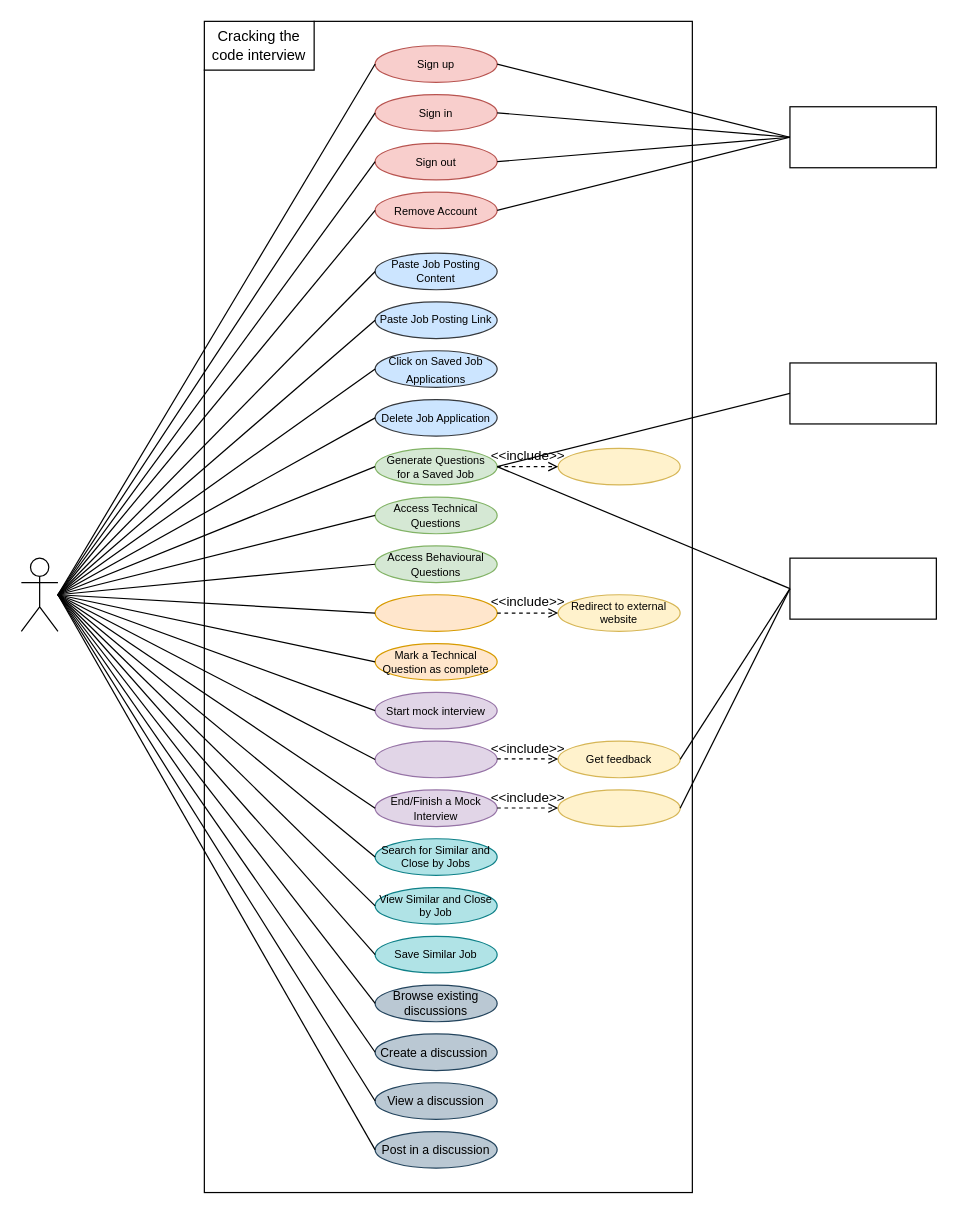
Some shapes in this 958 by 1214 pixel diagram are drawn without their labels. Here are the shapes that lost their labels. From the top down, the centre of each, then its label:
At (x=862, y=137): "Google Authentication API".
At (x=862, y=393): "Community leetcode API".
At (x=618, y=466): "View Overall Progress".
At (x=39, y=594): "User".
At (x=862, y=588): "OpenAI API".
At (x=435, y=612): "Click to Solve a Technical Question".
At (x=435, y=759): "Answer Behavioural questions (typed)".
At (x=618, y=808): "Get Summary and Analysis".
